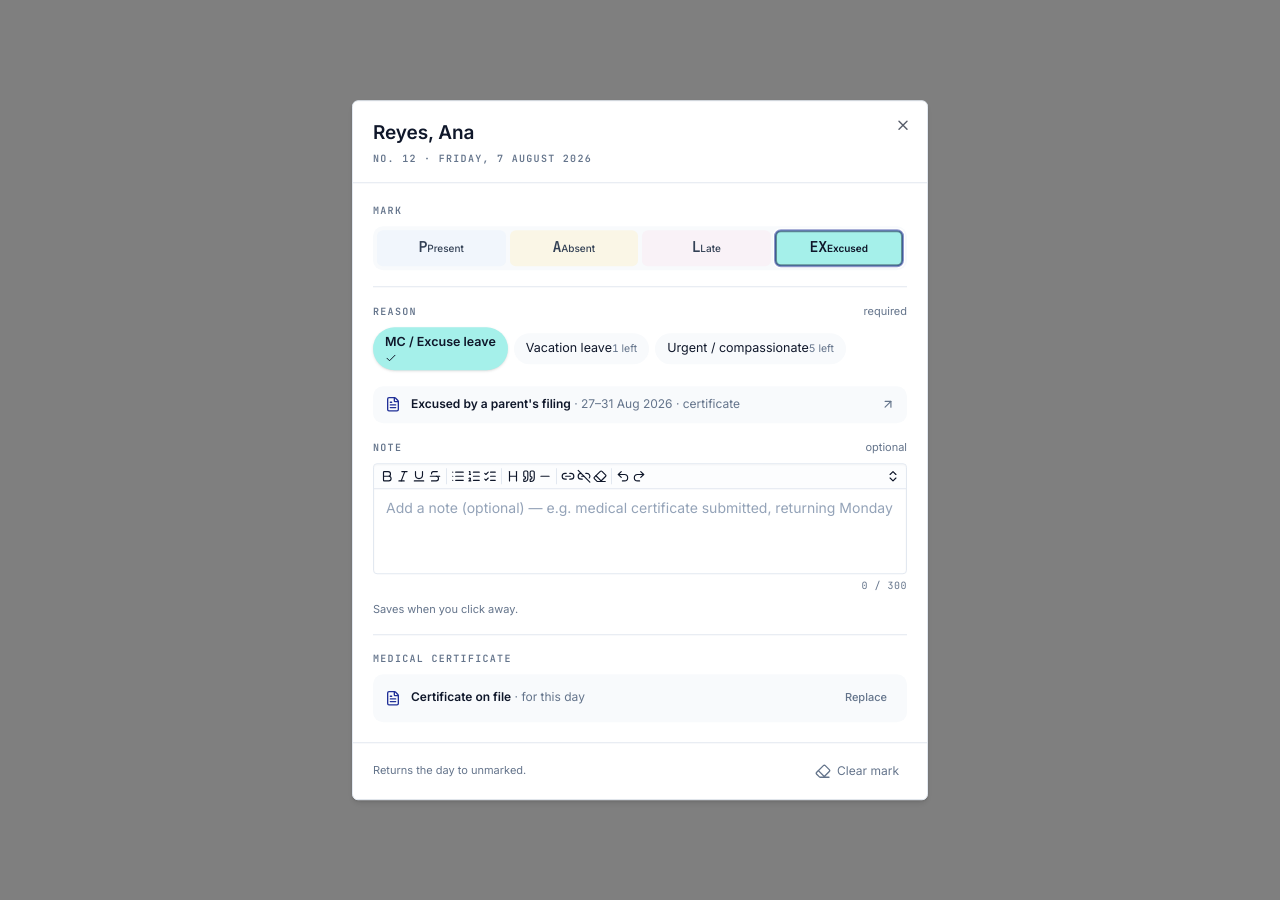
Scenario: a day a parent filed for › asks before CLEARING a day the school approved
The width and height of the screenshot is (1280, 900).
Click the button "Clear mark": (857, 771) [807,757,907,785]
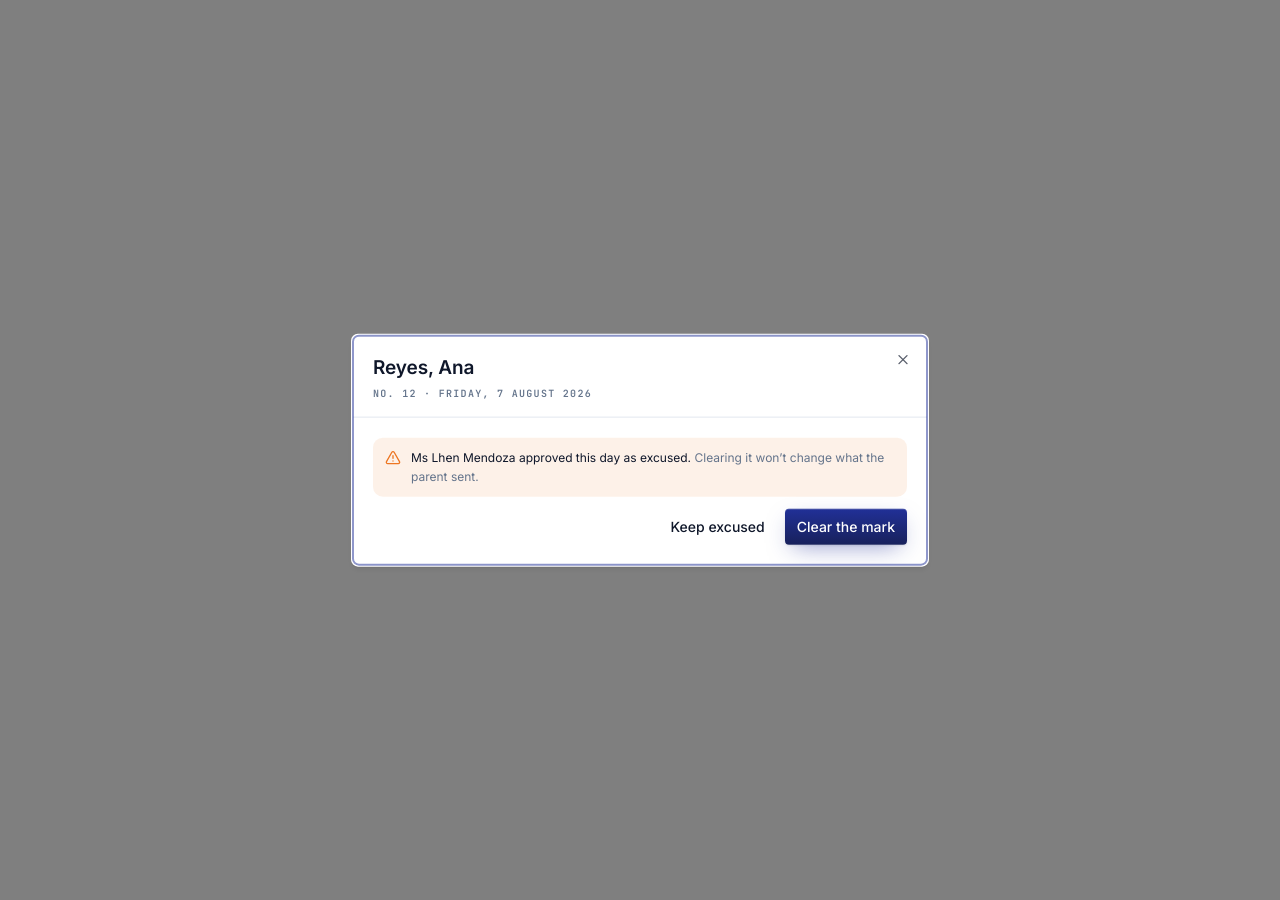
Check: the text "Ms Lhen Mendoza approved this day" is shown, box [411,449,691,464]
Check: the text "Clearing it won’t change what the parent sent." is shown, box [411,449,884,484]
